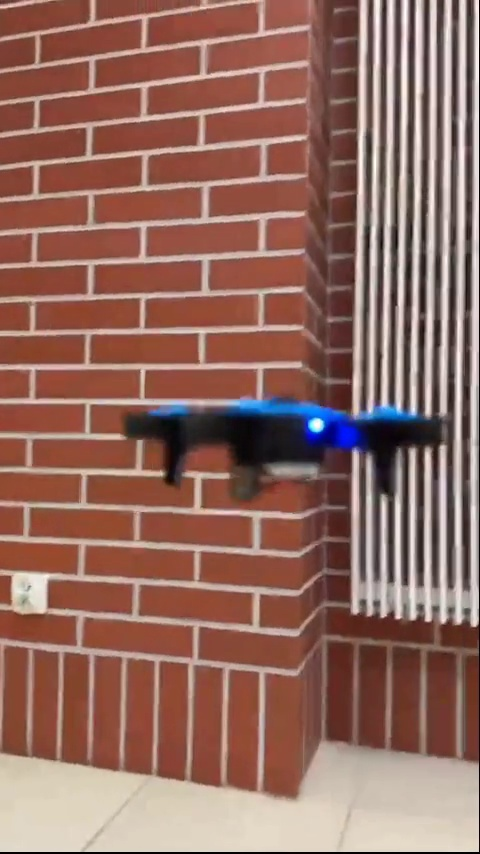drone: (126, 388, 448, 505)
